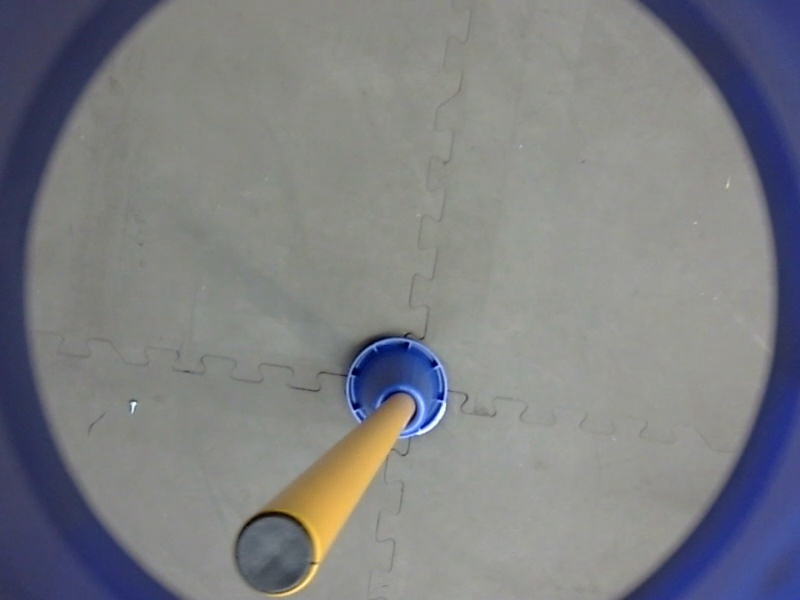tip: (227, 503, 327, 600)
